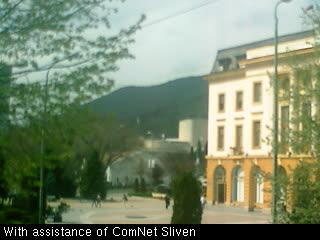person: (121, 194, 128, 208), (96, 193, 102, 208), (164, 196, 170, 210), (91, 196, 97, 207), (201, 194, 205, 209)
